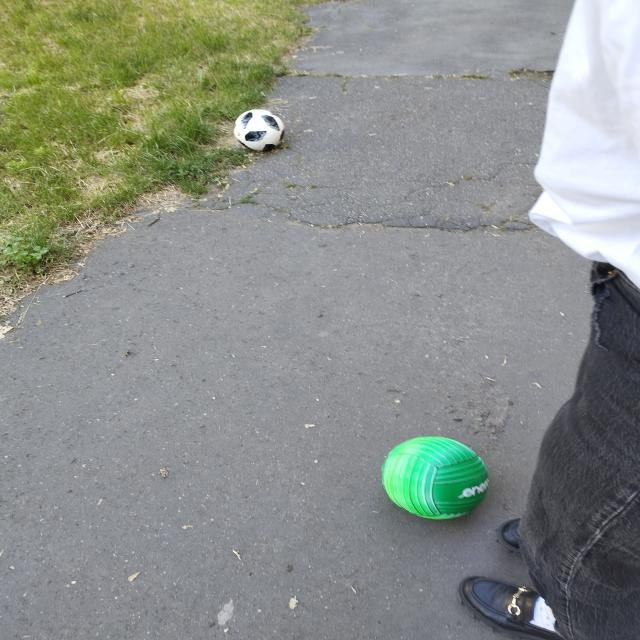nozna: (234, 109, 285, 151)
zielona: (382, 436, 490, 520)
